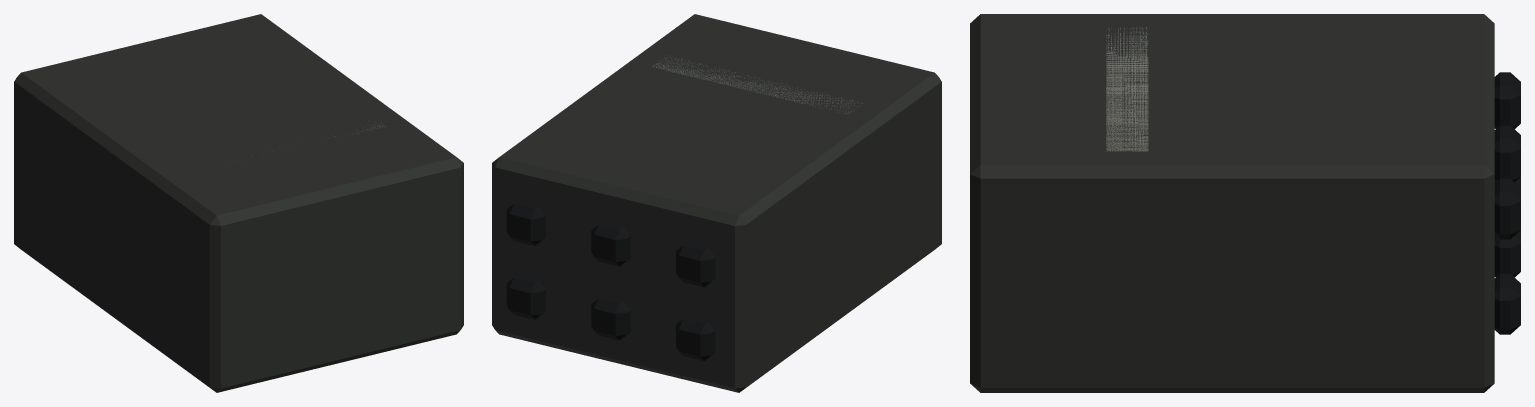
Rendered from Utility_Smoke.fbx.
3 renders of one model, left to right at view 1: azimuth 30°, elevation 25°; view 2: azimuth 150°, elevation 25°; view 3: azimuth 270°, elevation 25°, orthographic. The views are drawn at different scales.
Visible parts, largest first — view 1: Utility_Smoke; view 2: Utility_Smoke; view 3: Utility_Smoke.
Boxes of the visible parts, x1,y1,x2,y2 form: Utility_Smoke: [14, 14, 463, 392]; Utility_Smoke: [492, 14, 941, 392]; Utility_Smoke: [970, 14, 1520, 392].
Size of the model in its own units: 0.36 by 0.24 by 0.525.
